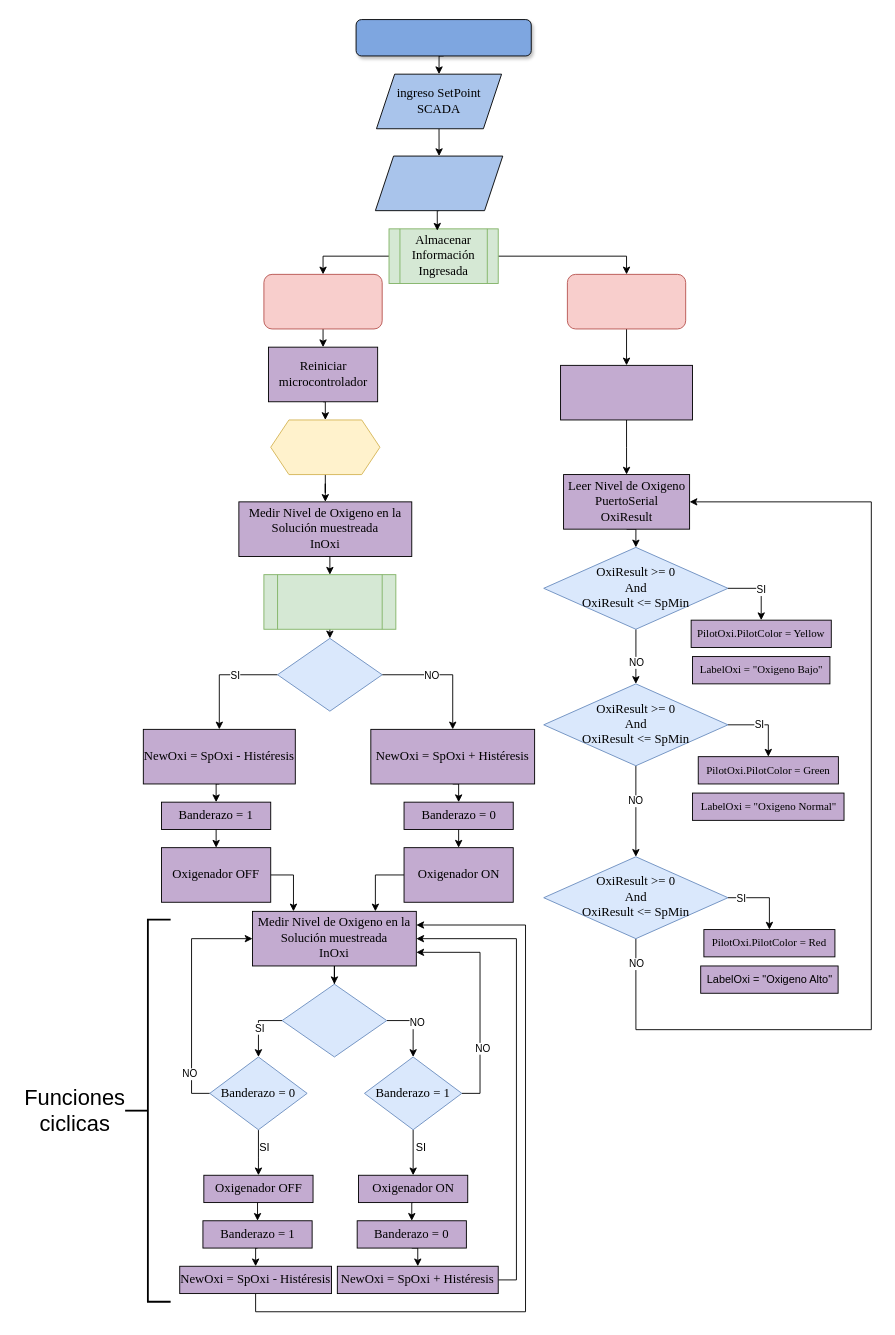
Image size: 895x1335. Some labels were removed from this diagram. The centre of each missing label's shape, as x and y in pixels:
"Ajustes de Inicio" belongs at point (325, 447).
"Comparar Nivel de Oxigeno medido vs SpOxigeno" belongs at point (329, 601).
"Control de Oxigenación" belongs at point (444, 38).
"Generar SPpOxi,SpMin,SpMax" belongs at point (626, 392).
"Ingreso Valor Histéresis SCADA" belongs at point (438, 183).
"InOxi > NewOxi" belongs at point (334, 1020).
"InOxi > SpOxi" belongs at point (329, 674).
"Microcontrolador (EEPROM.Write) SpOxi - HisOxi" belongs at point (322, 301).
"Valor SetPoint Almacenado en el PC" belongs at point (626, 301).
